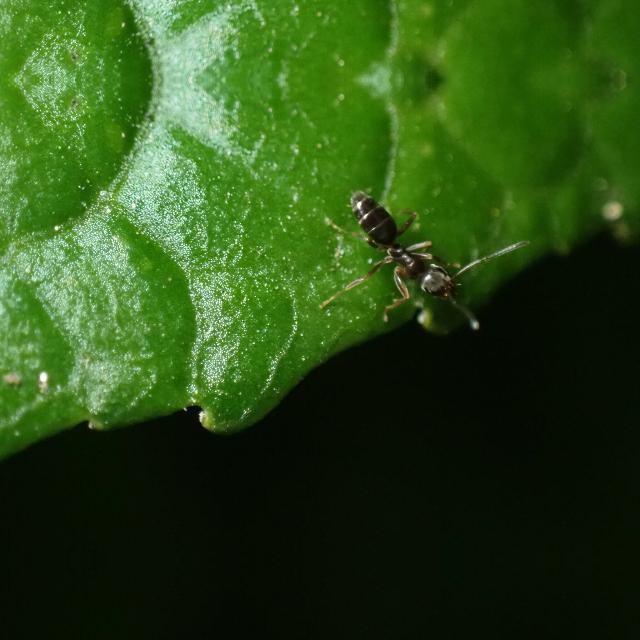Tapinoma: (330, 178, 496, 316)
